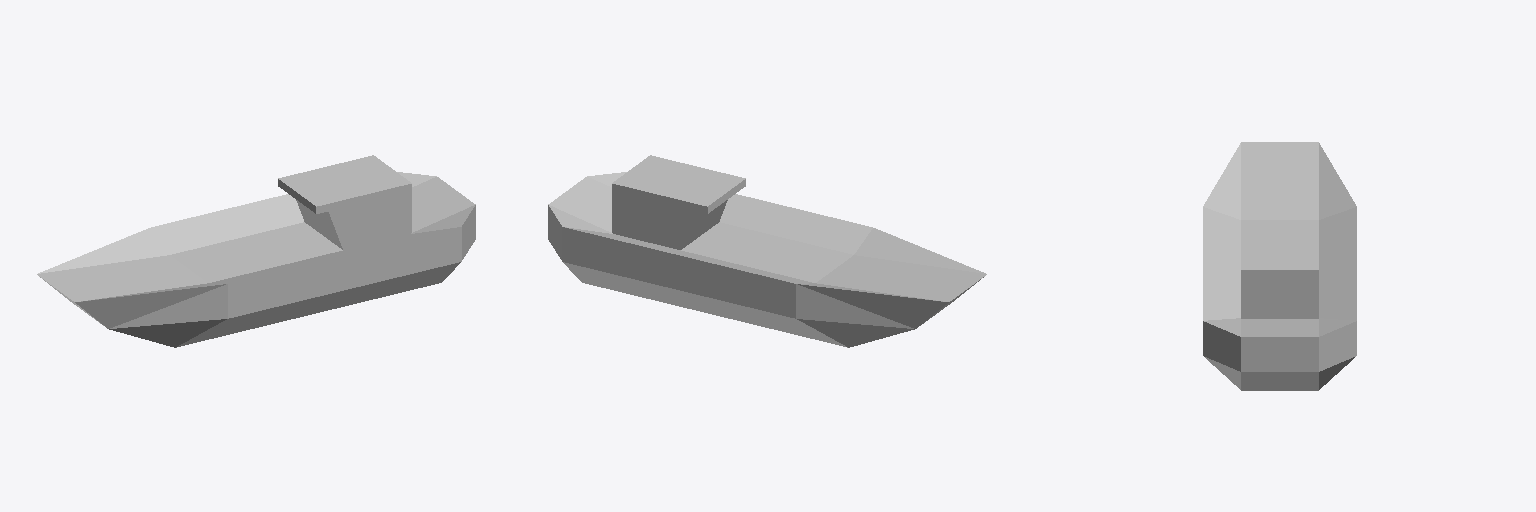
The model's file is ship2.obj.
3 renders of one model, left to right at view 1: azimuth 30°, elevation 25°; view 2: azimuth 150°, elevation 25°; view 3: azimuth 270°, elevation 25°, orthographic.
Visible parts, largest first — view 1: Cube; view 2: Cube; view 3: Cube.
Part boxes in pixels (left/top/right/bottom): Cube: left=37, top=155, right=475, bottom=347; Cube: left=548, top=155, right=986, bottom=347; Cube: left=1203, top=142, right=1356, bottom=390.
Bounding box in the file's own units: 12 × 3.05 × 4.